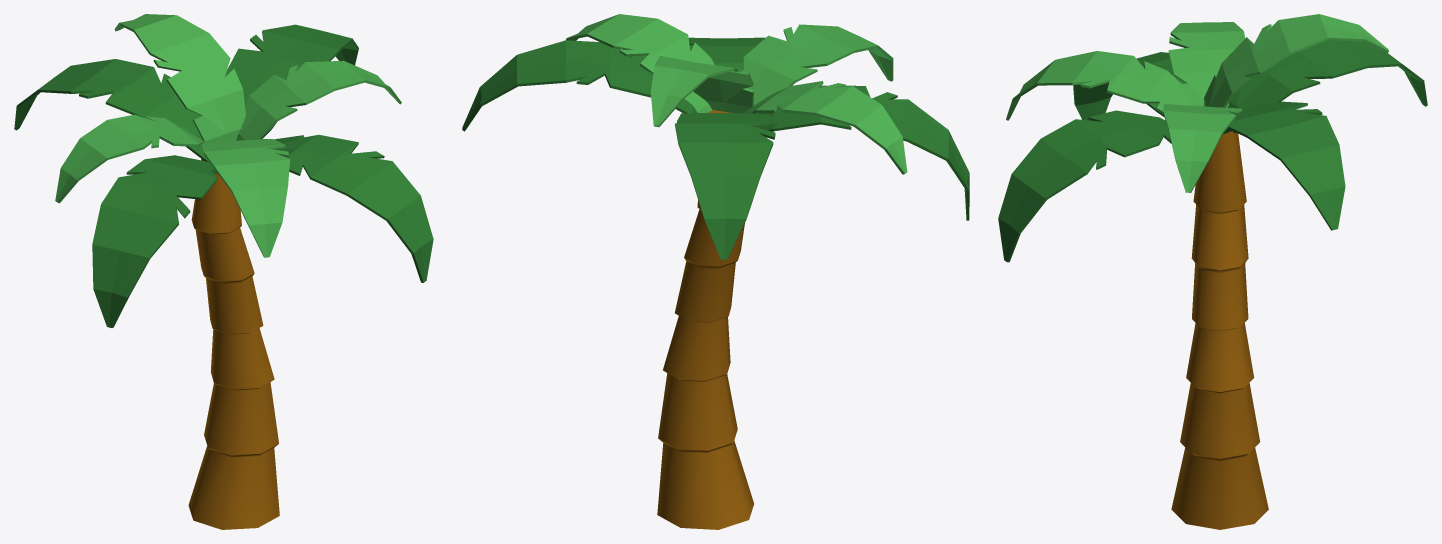
The model's file is Coconut_Tree3.fbx.
The picture shows the model from 3 angles, left to right: view 1: azimuth 30°, elevation 25°; view 2: azimuth 150°, elevation 25°; view 3: azimuth 270°, elevation 25°; orthographic projection. The views are drawn at different scales.
Visible parts, largest first — view 1: Coconut_Tree3; view 2: Coconut_Tree3; view 3: Coconut_Tree3.
Part boxes in pixels (bbox=[...]): Coconut_Tree3: bbox=[14, 14, 433, 529]; Coconut_Tree3: bbox=[462, 14, 969, 529]; Coconut_Tree3: bbox=[998, 14, 1427, 529].
Size of the model in its own units: 1264 by 1499 by 1242.
